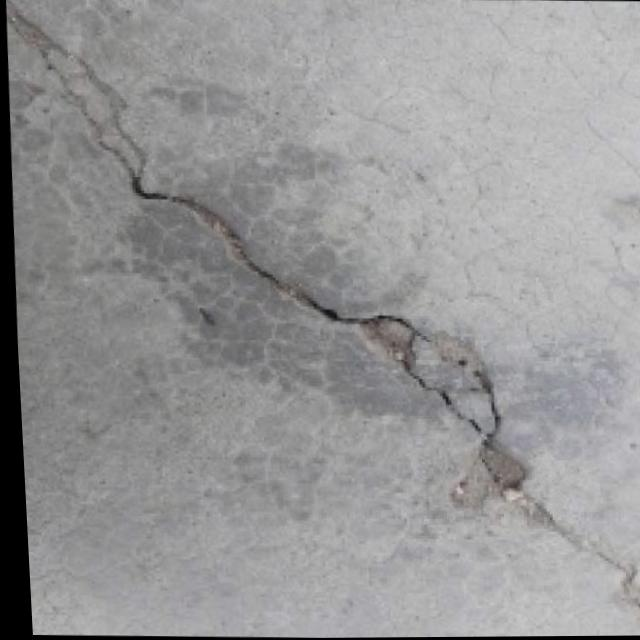Crack: (3, 12, 640, 640)
